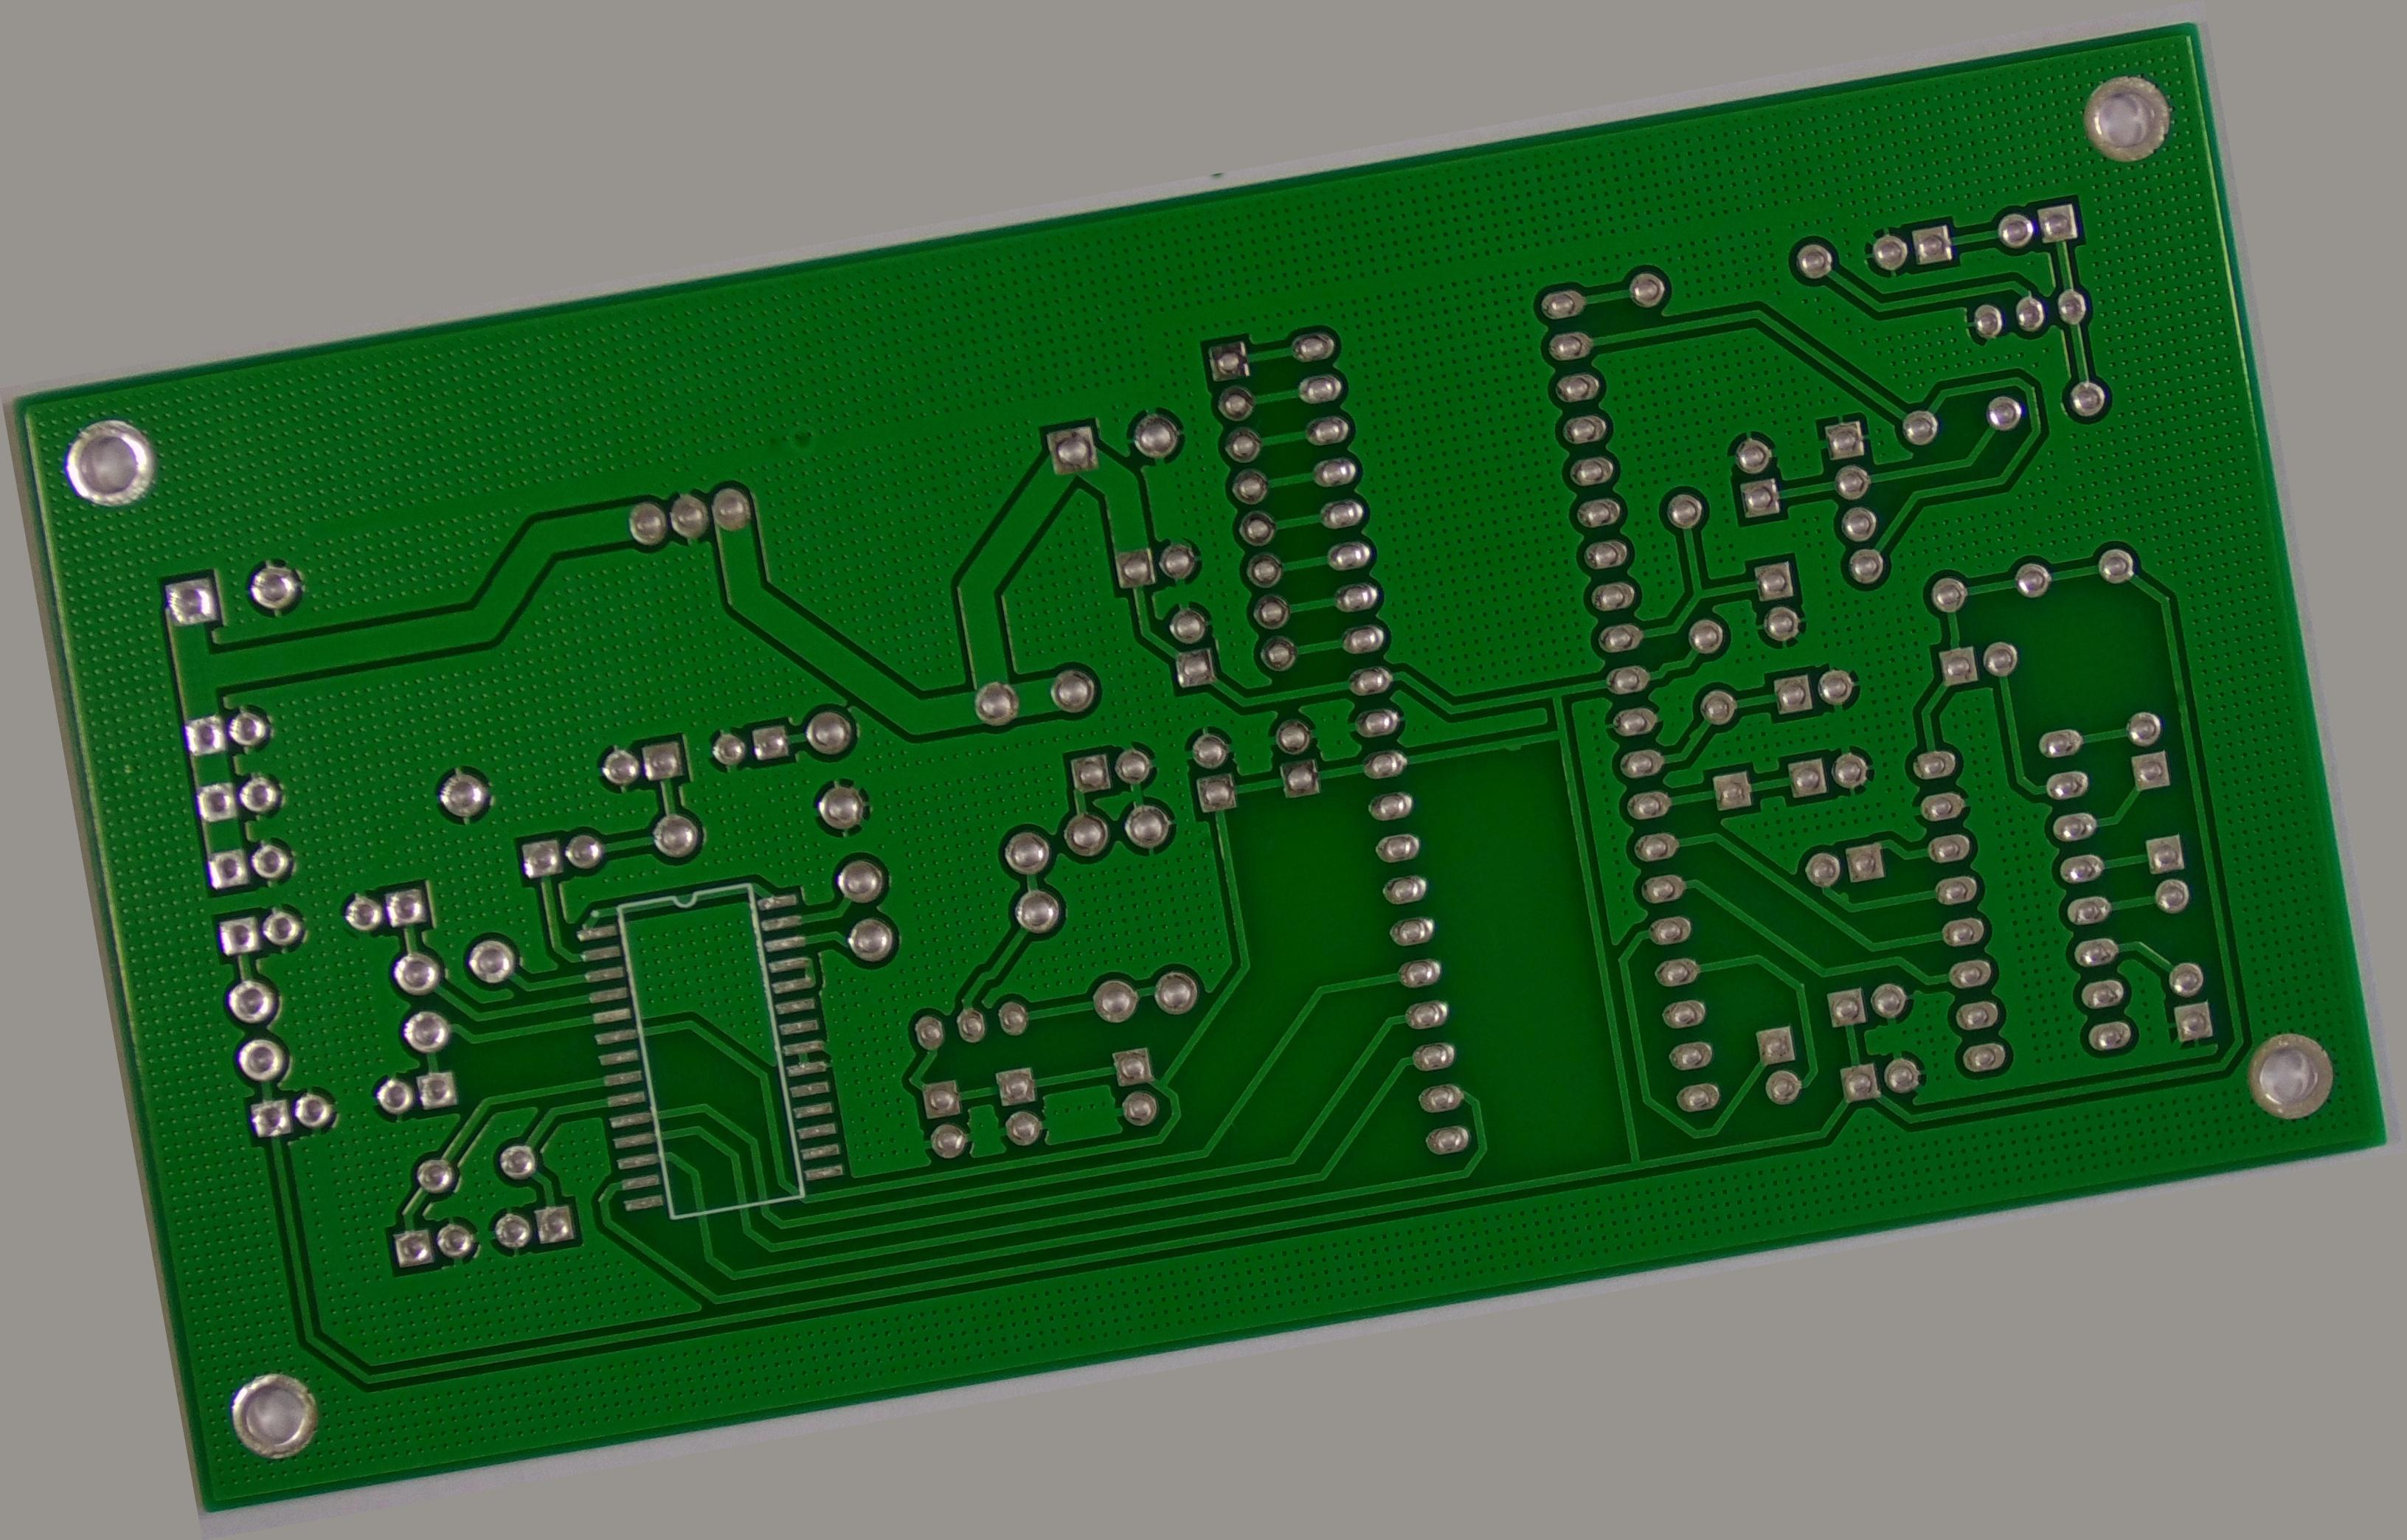spur: (1516, 791, 1560, 830), (1711, 819, 1751, 858), (1842, 1065, 1868, 1100)
